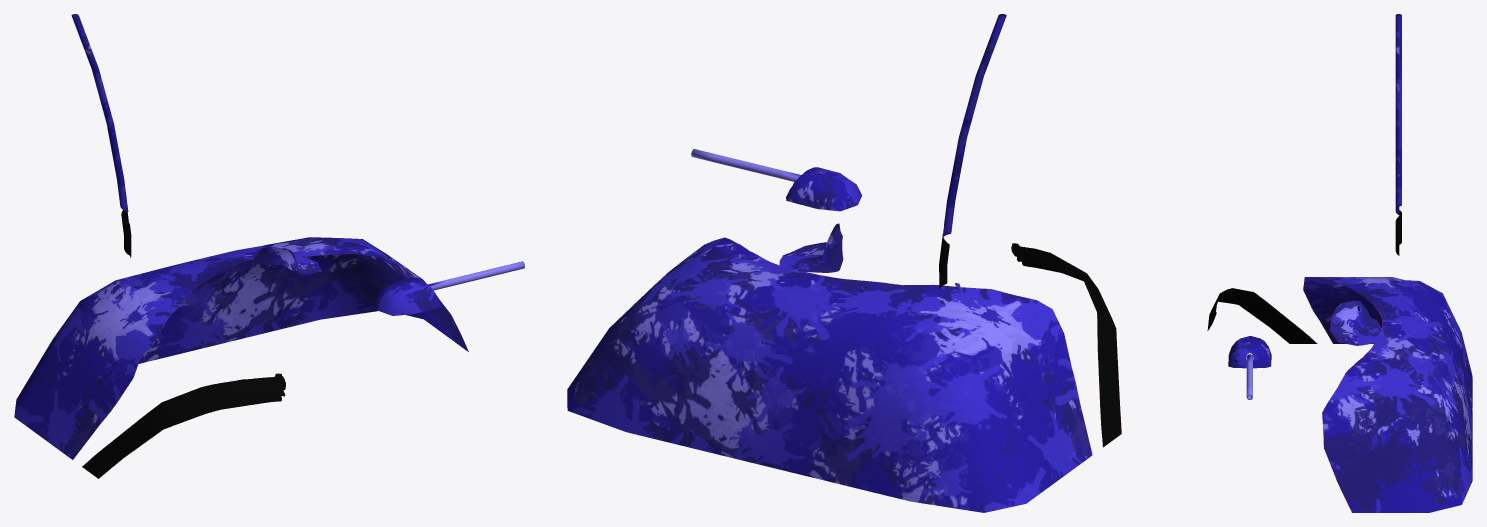
The model's file is tank_blue_top.obj.
3 renders of one model, left to right at view 1: azimuth 30°, elevation 25°; view 2: azimuth 150°, elevation 25°; view 3: azimuth 270°, elevation 25°, orthographic. The views are drawn at different scales.
Parts seen in each view (by area): view 1: Group1; view 2: Group1; view 3: Group1.
Boxes of the visible parts, x1,y1,x2,y2 form: Group1: [14, 14, 524, 478]; Group1: [567, 14, 1121, 512]; Group1: [1207, 14, 1472, 512].
Size of the model in its own units: 13.59 by 12.95 by 9.63.
